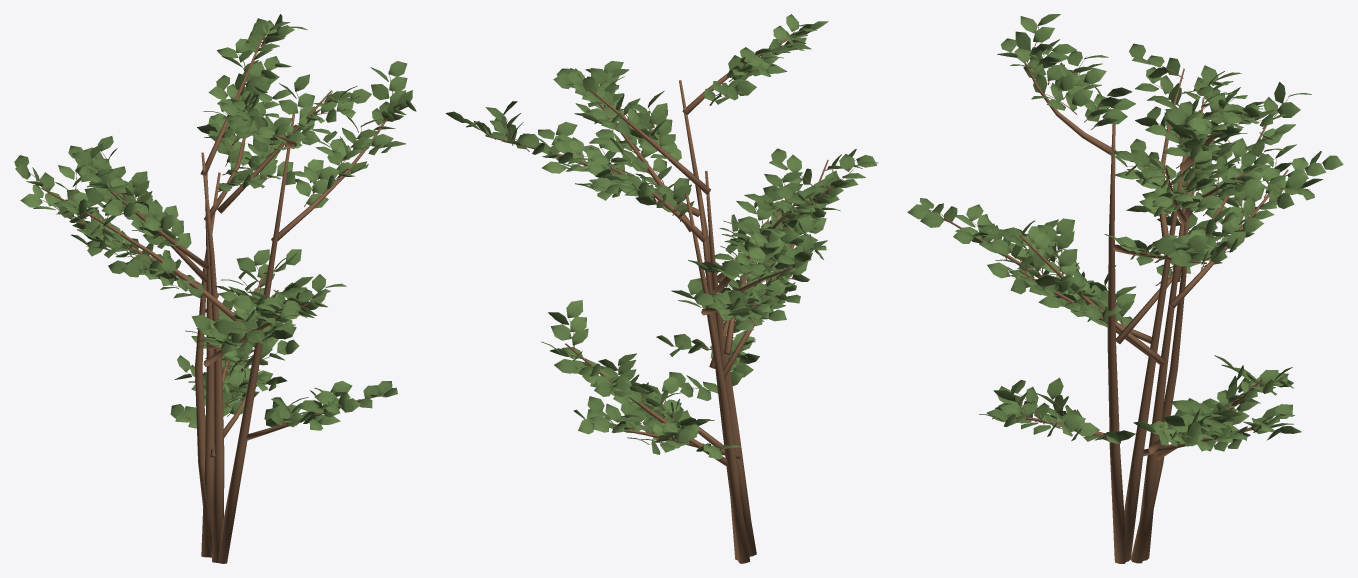
Rendered from Arbousier_2_LOD0.fbx.
3 views of the same model, side by side, from view 1: azimuth 30°, elevation 25°; view 2: azimuth 150°, elevation 25°; view 3: azimuth 270°, elevation 25° (orthographic). The views are drawn at different scales.
Visible parts, largest first — view 1: Arbousier_2_LOD0; view 2: Arbousier_2_LOD0; view 3: Arbousier_2_LOD0.
Part boxes in pixels (left/top/right/bottom): Arbousier_2_LOD0: left=14, top=14, right=416, bottom=563; Arbousier_2_LOD0: left=445, top=14, right=878, bottom=563; Arbousier_2_LOD0: left=907, top=14, right=1343, bottom=563.
Size of the model in its own units: 320 by 400 by 297.
